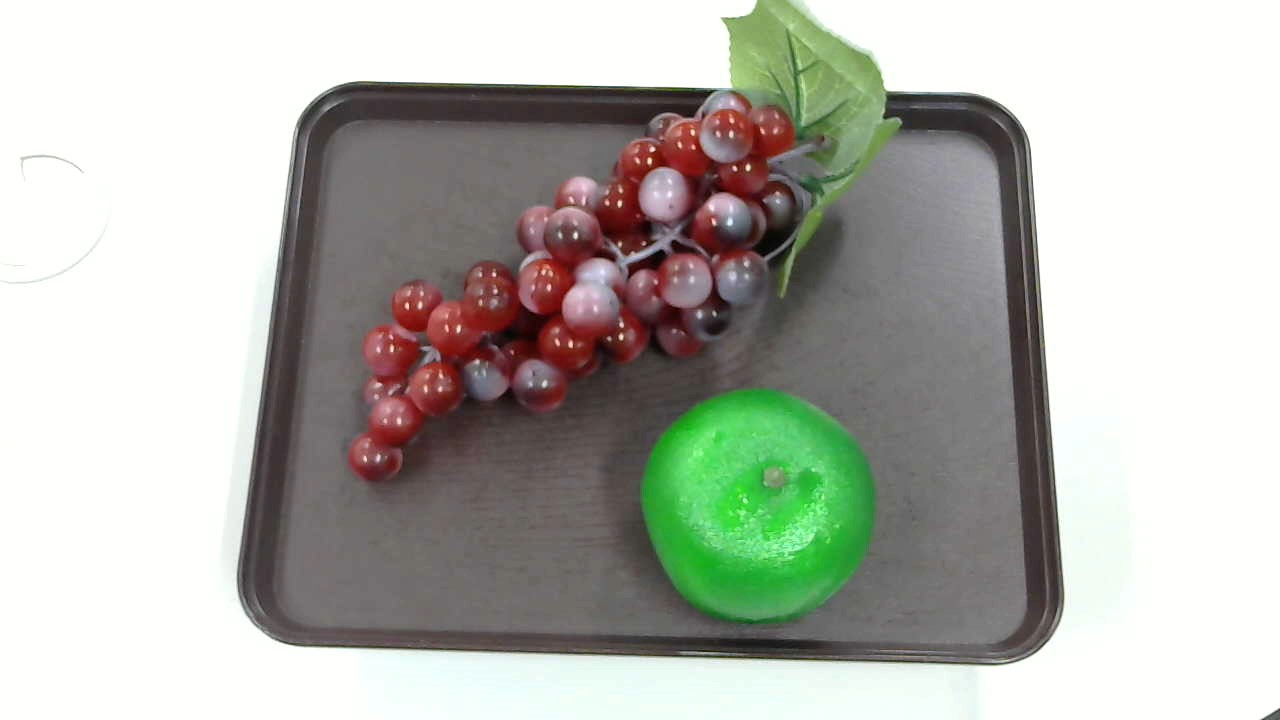grape: (349, 3, 901, 476)
green orange: (637, 391, 874, 629)
